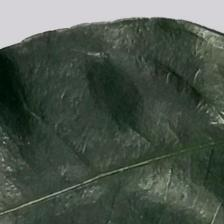healthy: (8, 37, 224, 224)
